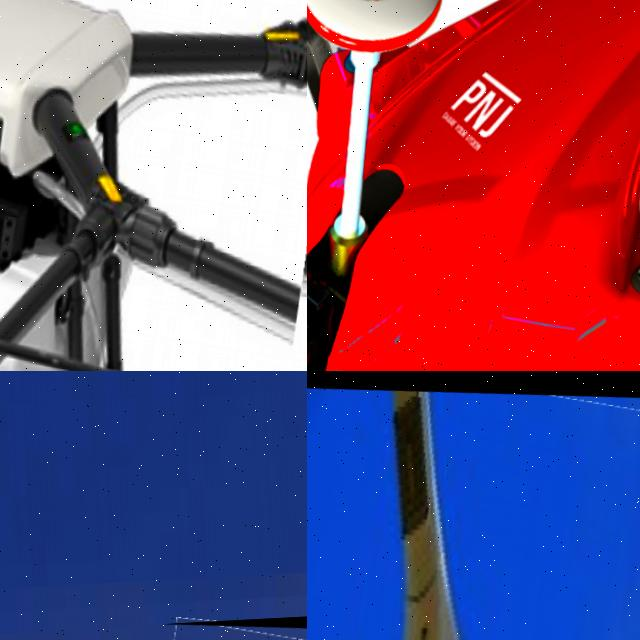drone: (307, 0, 640, 371), (0, 0, 307, 371), (307, 371, 640, 640)
